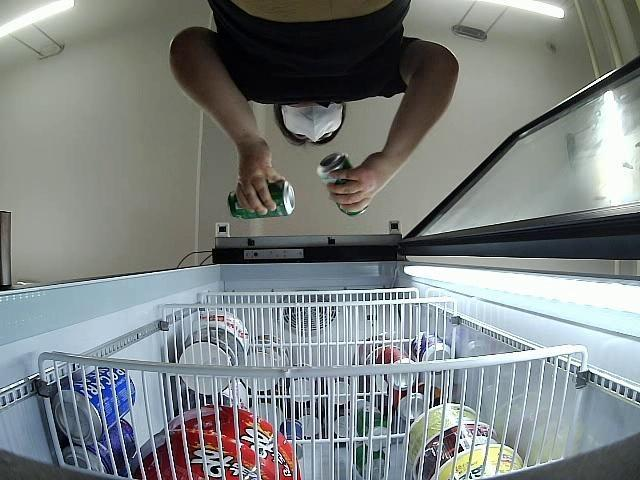12_chilsungCider: (316, 153, 368, 216), (228, 180, 294, 219)
